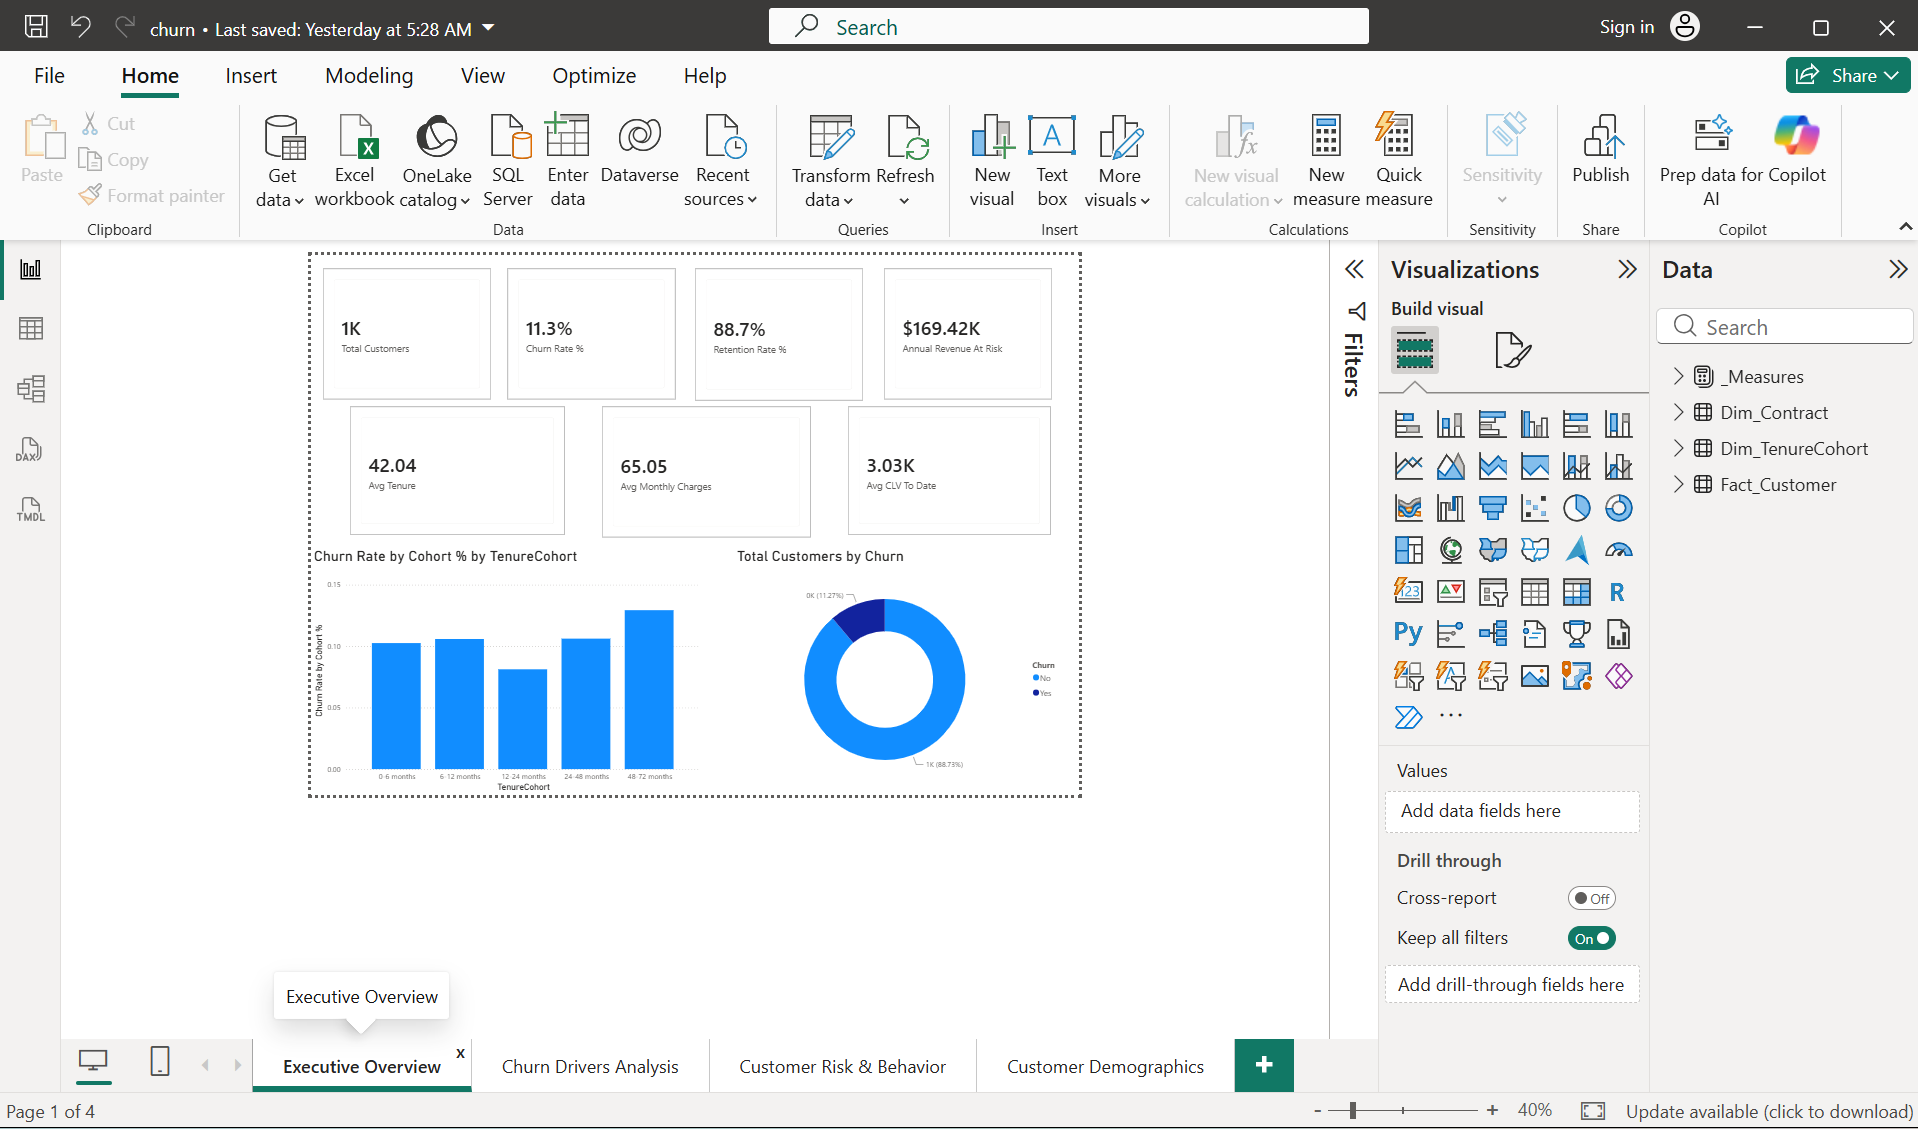

The page's visual inventory and layout, read from the dashboard file:
{"tool":"powerbi","page":{"name":"Executive Overview","canvas":[1280,900],"ordinal":0},"visuals":[{"type":"cardVisual","fields":{"Data":["_Measures.Total Customers"]},"box":[20,22,280,218],"z":0},{"type":"cardVisual","fields":{"Data":["_Measures.Churn Rate %"]},"box":[328,22,280,218],"z":1000},{"type":"cardVisual","fields":{"Data":["_Measures.Annual Revenue At Risk"]},"box":[954,22,280,218],"z":2000},{"type":"cardVisual","fields":{"Data":["_Measures.Avg Tenure"]},"box":[64,252,358,214],"z":3000},{"type":"cardVisual","fields":{"Data":["_Measures.Avg Monthly Charges"]},"box":[484,252,348,218],"z":4000},{"type":"cardVisual","fields":{"Data":["_Measures.Avg CLV To Date"]},"box":[896,252,338,214],"z":5000},{"type":"clusteredColumnChart","fields":{"Category":["Dim_TenureCohort.TenureCohort"],"Y":["_Measures.Churn Rate by Cohort %"]},"box":[0,488,654,412],"z":6000},{"type":"donutChart","fields":{"Category":["Fact_Customer.Churn"],"Y":["_Measures.Total Customers"]},"box":[704,488,560,412],"z":7000},{"type":"cardVisual","fields":{"Data":["_Measures.Retention Rate %"]},"box":[640,22,280,220],"z":8000}]}

Visuals, with their boxes on the page's 1280x900 design canvas (x1, y1, x2, y2). These are canvas units, not pixel positions in the 1918x1129 screenshot, which may show the page scaled, cropped or inside an application window:
cardVisual - _Measures.Total Customers: (20,22,300,240)
cardVisual - _Measures.Churn Rate %: (328,22,608,240)
cardVisual - _Measures.Annual Revenue At Risk: (954,22,1234,240)
cardVisual - _Measures.Avg Tenure: (64,252,422,466)
cardVisual - _Measures.Avg Monthly Charges: (484,252,832,470)
cardVisual - _Measures.Avg CLV To Date: (896,252,1234,466)
clusteredColumnChart - Dim_TenureCohort.TenureCohort x _Measures.Churn Rate by Cohort %: (0,488,654,900)
donutChart - Fact_Customer.Churn x _Measures.Total Customers: (704,488,1264,900)
cardVisual - _Measures.Retention Rate %: (640,22,920,242)
